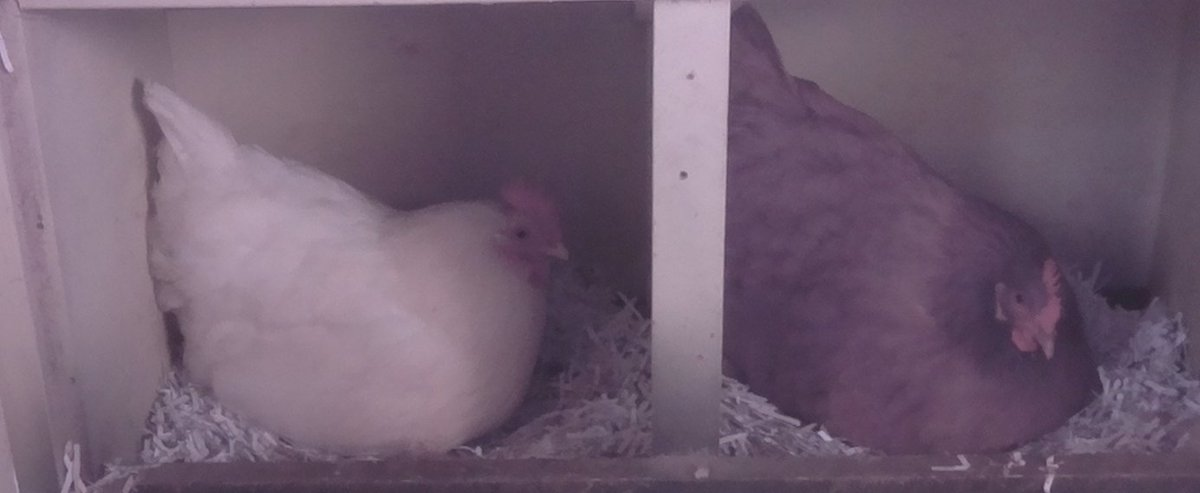hen: (123, 72, 574, 455), (730, 3, 1110, 447)
